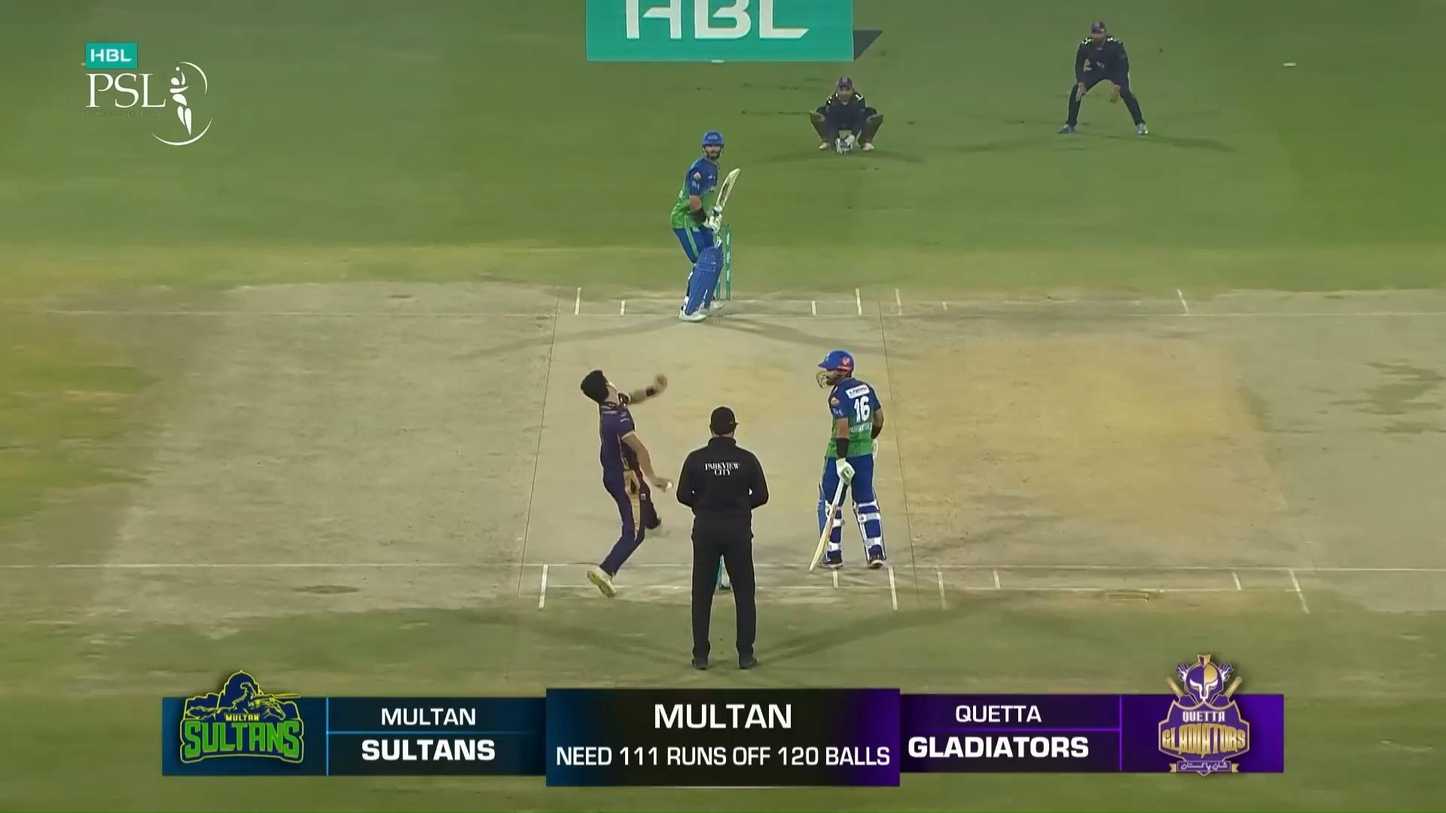batsman: (670, 131, 741, 323)
